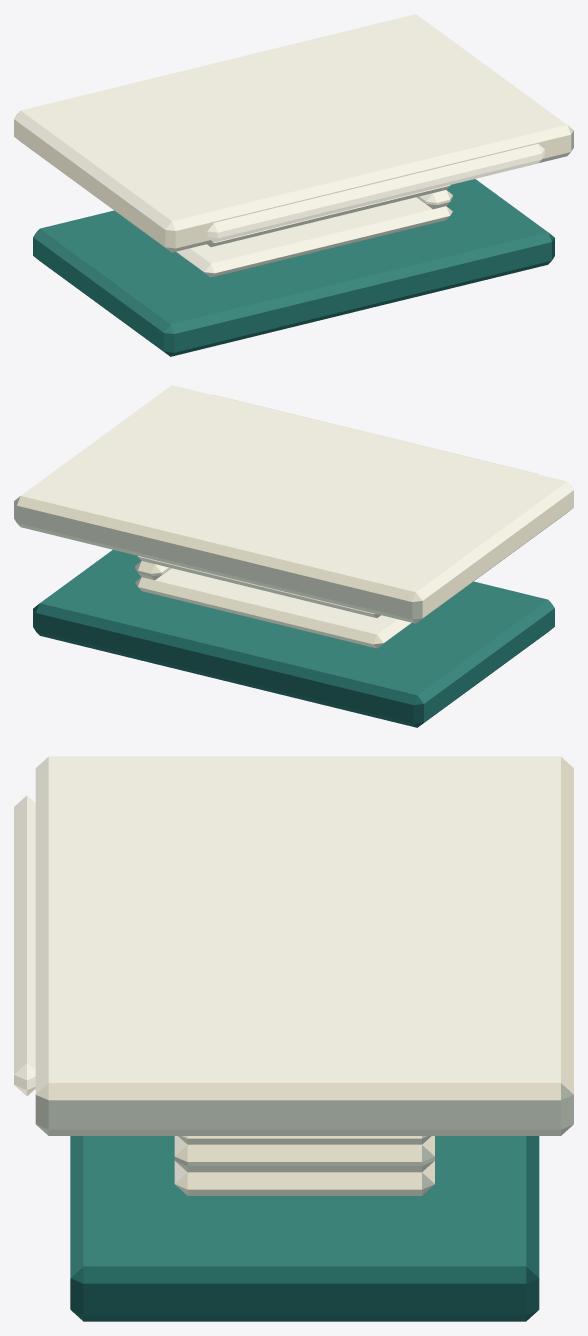
Rendered from Spring.gltf.
The picture shows the model from 3 angles, top to bottom: view 1: azimuth 30°, elevation 25°; view 2: azimuth 150°, elevation 25°; view 3: azimuth 270°, elevation 25°; orthographic projection. The views are drawn at different scales.
Visible parts, largest first — view 1: Spring_baked; view 2: Spring_baked; view 3: Spring_baked.
Boxes of the visible parts, x1,y1,x2,y2 form: Spring_baked: (14, 14, 573, 356); Spring_baked: (14, 385, 573, 727); Spring_baked: (14, 756, 573, 1321).
Size of the model in its own units: 0.92 by 0.3125 by 0.645.
